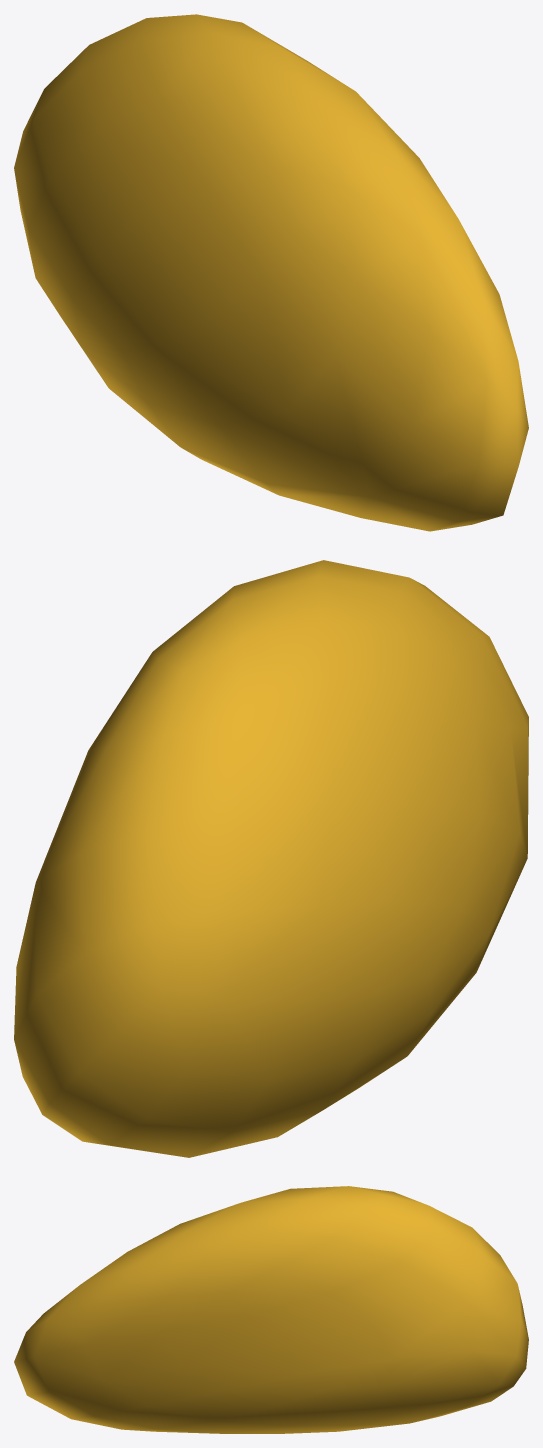
3 views of the same model, one above another, from view 1: azimuth 30°, elevation 25°; view 2: azimuth 150°, elevation 25°; view 3: azimuth 270°, elevation 25° (orthographic). The views are drawn at different scales.
Visible parts, largest first — view 1: VA_F; view 2: VA_F; view 3: VA_F.
Boxes of the visible parts, x1=… form: VA_F: x1=14, y1=14, x2=528, y2=531; VA_F: x1=14, y1=560, x2=528, y2=1157; VA_F: x1=14, y1=1186, x2=528, y2=1433.
Bounding box in the file's own units: 3.47 × 5.36 × 10.09.
